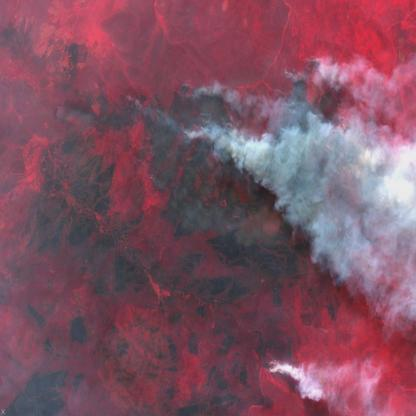fire: (124, 48, 387, 229), (261, 344, 285, 380)
